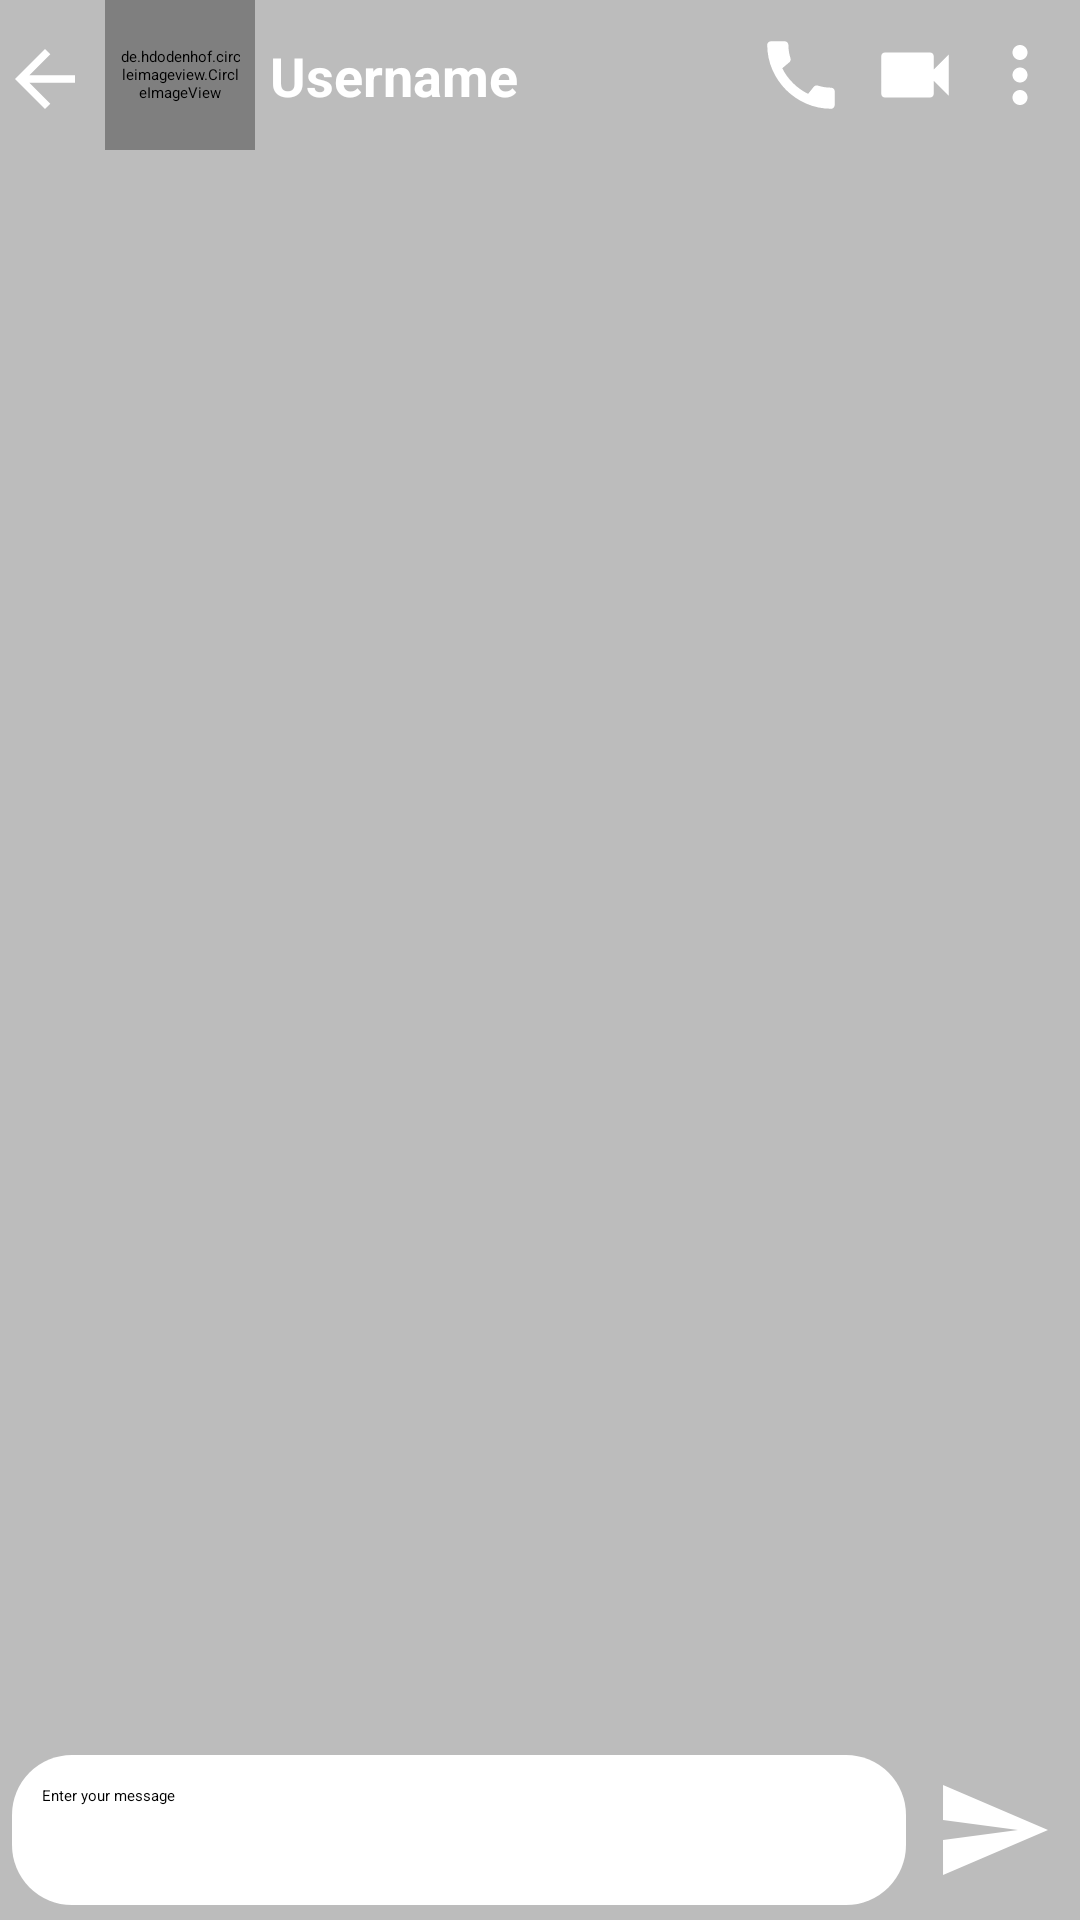

Point at icon controls on the screen. Image size 1080x1920, points as point (x, y).
back: point (45, 79)
call: point (801, 75)
menu: point (1020, 75)
send: point (995, 1830)
videocall: point (915, 75)
